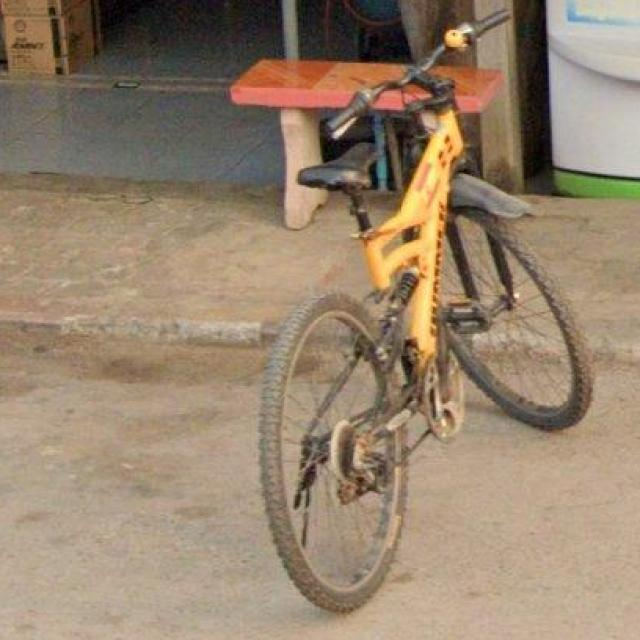bicycle: (263, 12, 594, 614)
